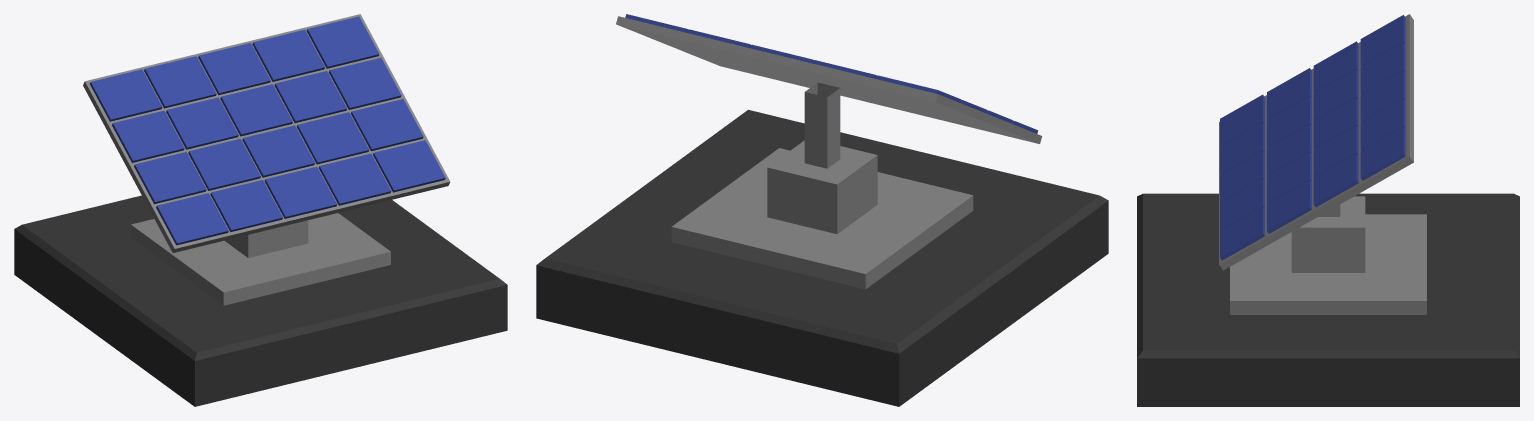
Rendered from SolarPanel.glb.
3 views of the same model, side by side, from view 1: azimuth 30°, elevation 25°; view 2: azimuth 150°, elevation 25°; view 3: azimuth 270°, elevation 25° (orthographic). The views are drawn at different scales.
Parts seen in each view (by area): view 1: Cube; view 2: Cube; view 3: Cube.
Part boxes in pixels (box(x1,y1,x2,y2)): Cube: box(14, 14, 507, 406); Cube: box(536, 14, 1108, 406); Cube: box(1137, 14, 1519, 406).
Bounding box in the file's own units: 1.73 × 1.2 × 1.73.
